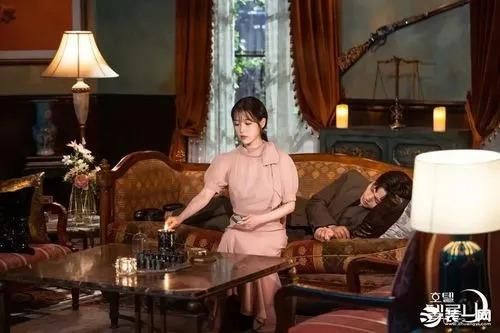bending: (185, 101, 297, 270)
down: (147, 169, 405, 241)
